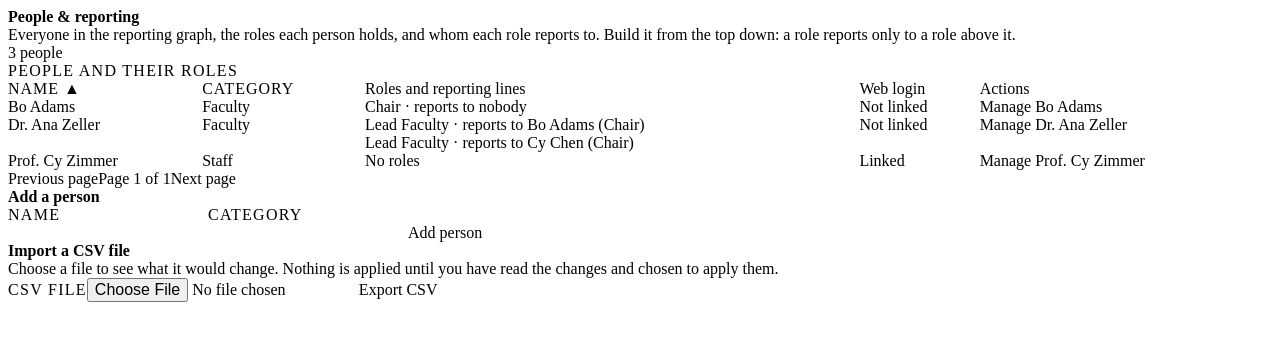
Scenario: what is said and where focus lands › says the column and direction a sort now shows
Check: the table with test id "pulse-admin-people-table" is shown, box x1=8 y1=62 x2=1272 y2=170
Click the button "Name ▲": (44,89) x1=8 y1=80 x2=81 y2=98
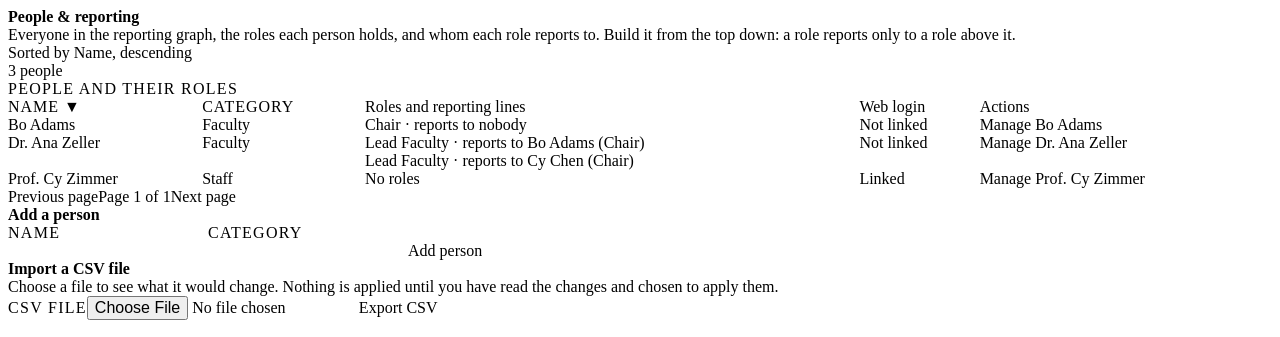
Check: the message reads "Sorted by Name, descending", box x1=8 y1=44 x2=192 y2=61
Click the button "Category": (248,107) x1=202 y1=98 x2=294 y2=116
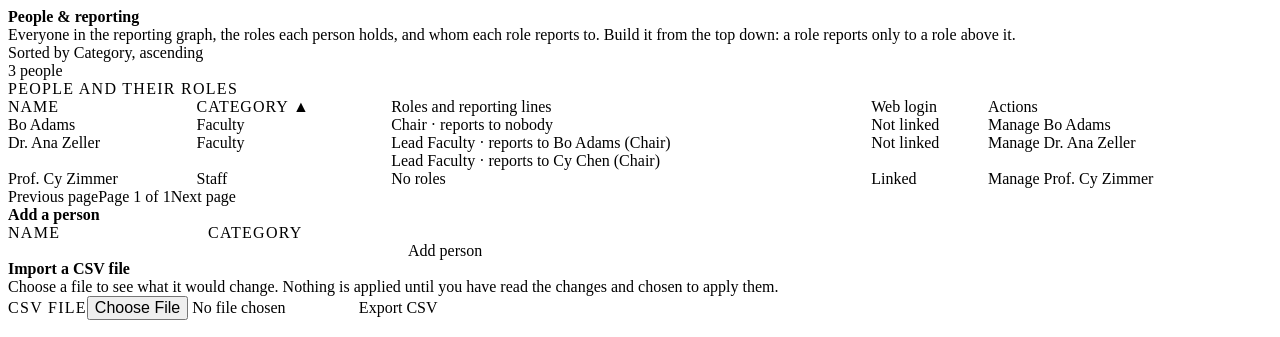
Check: the message reads "Sorted by Category, ascending", box x1=8 y1=44 x2=203 y2=61
